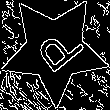P_SW: (24, 20, 84, 80)
